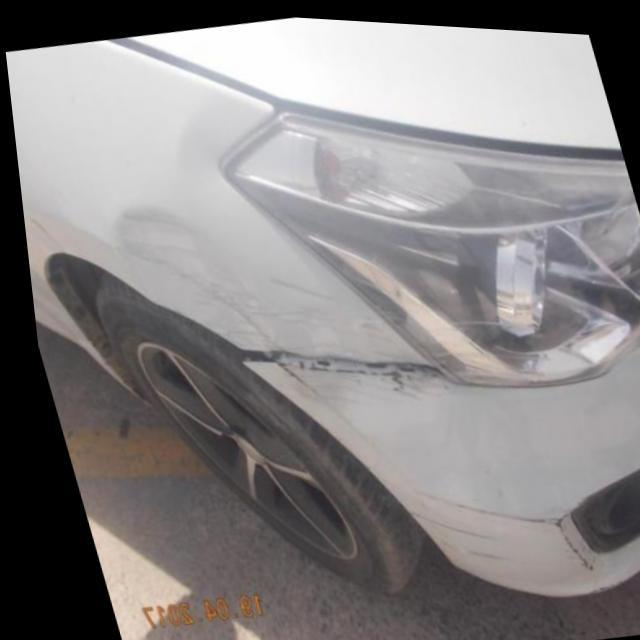crack: (405, 486, 586, 566)
dent: (95, 184, 199, 315)
dislocated part: (195, 274, 436, 401)
scratch: (420, 532, 543, 559), (396, 505, 485, 536)
